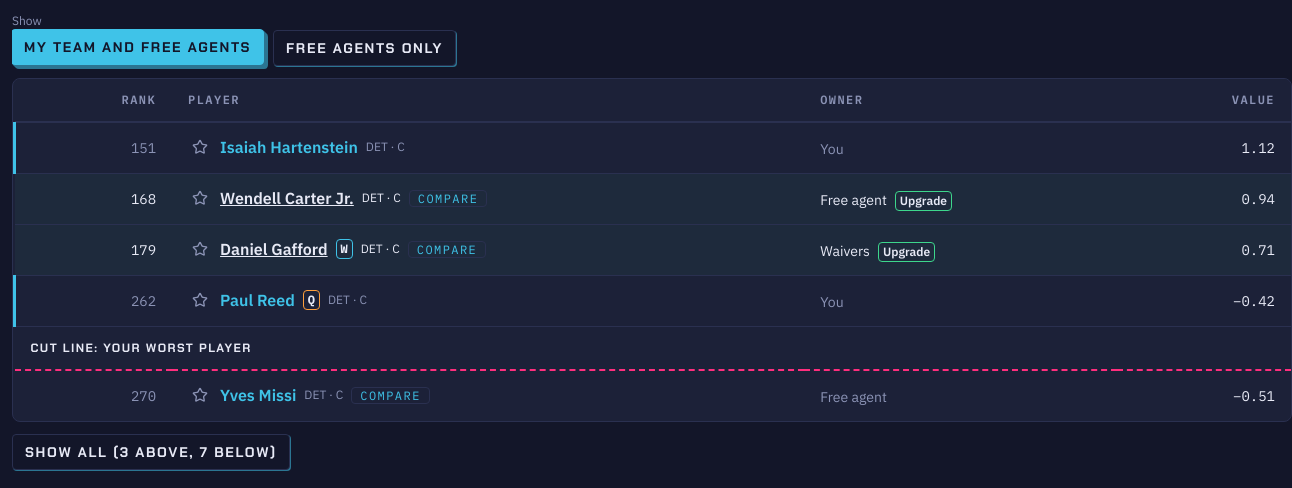
Test: CutLinePanel sorting › drops the cut line and the window while sorted, since the order no longer means a line
Click the button "Value" at {"x": 1245, "y": 100}, box left=1216, top=91, right=1275, bottom=109
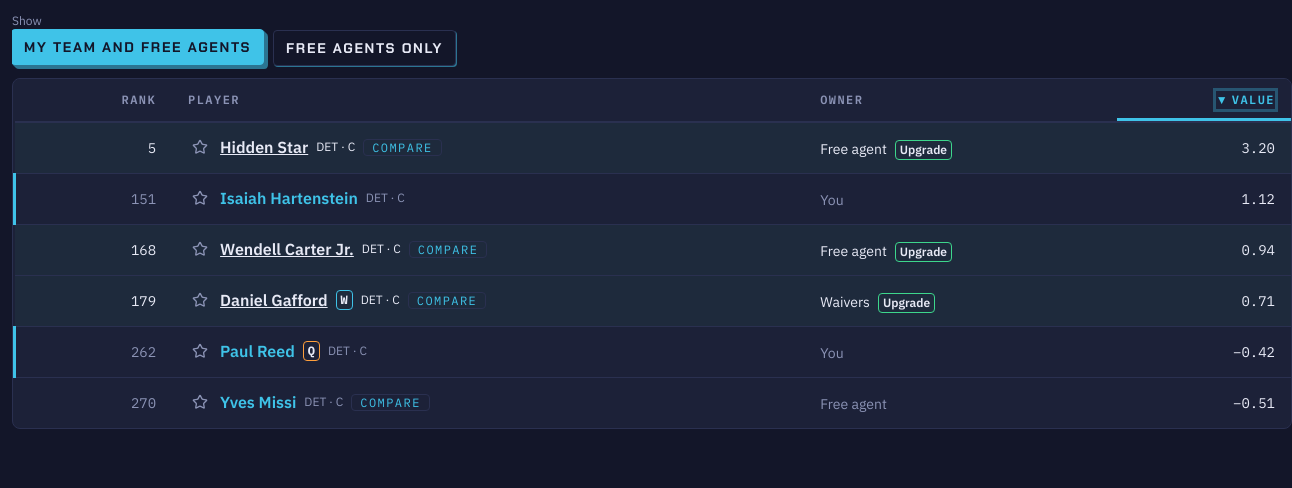
Expected: the column heading "Cut line: your worst player" is gone
Expected: the button "Show all" is gone
